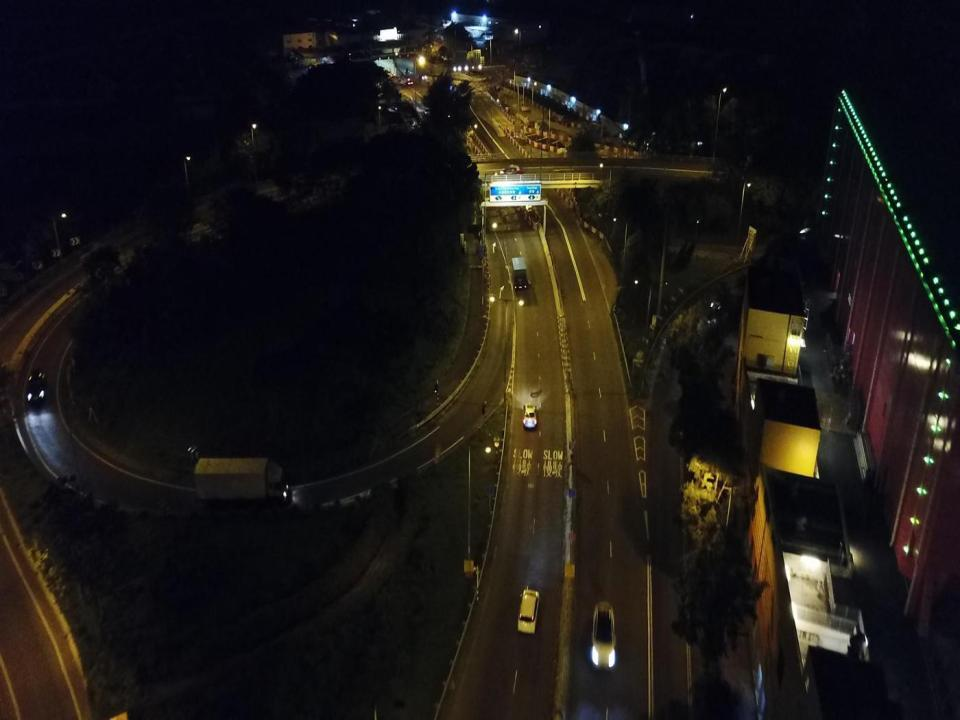car: (591, 600, 617, 671), (516, 587, 539, 638), (26, 368, 44, 406), (523, 404, 537, 431), (493, 164, 523, 176), (710, 295, 726, 309), (406, 79, 413, 85), (390, 72, 394, 77)
truck: (194, 455, 291, 503), (512, 256, 528, 290)
van: (422, 106, 430, 114)
